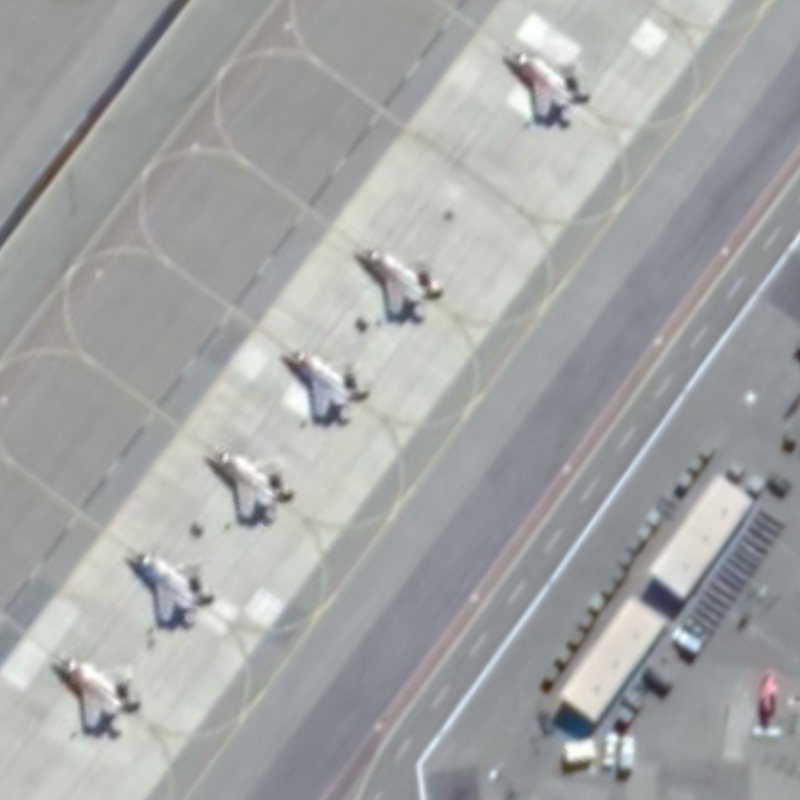A15: (36, 640, 149, 744), (338, 228, 449, 333), (492, 31, 598, 129), (120, 538, 222, 634), (199, 437, 303, 531), (271, 338, 376, 431)
